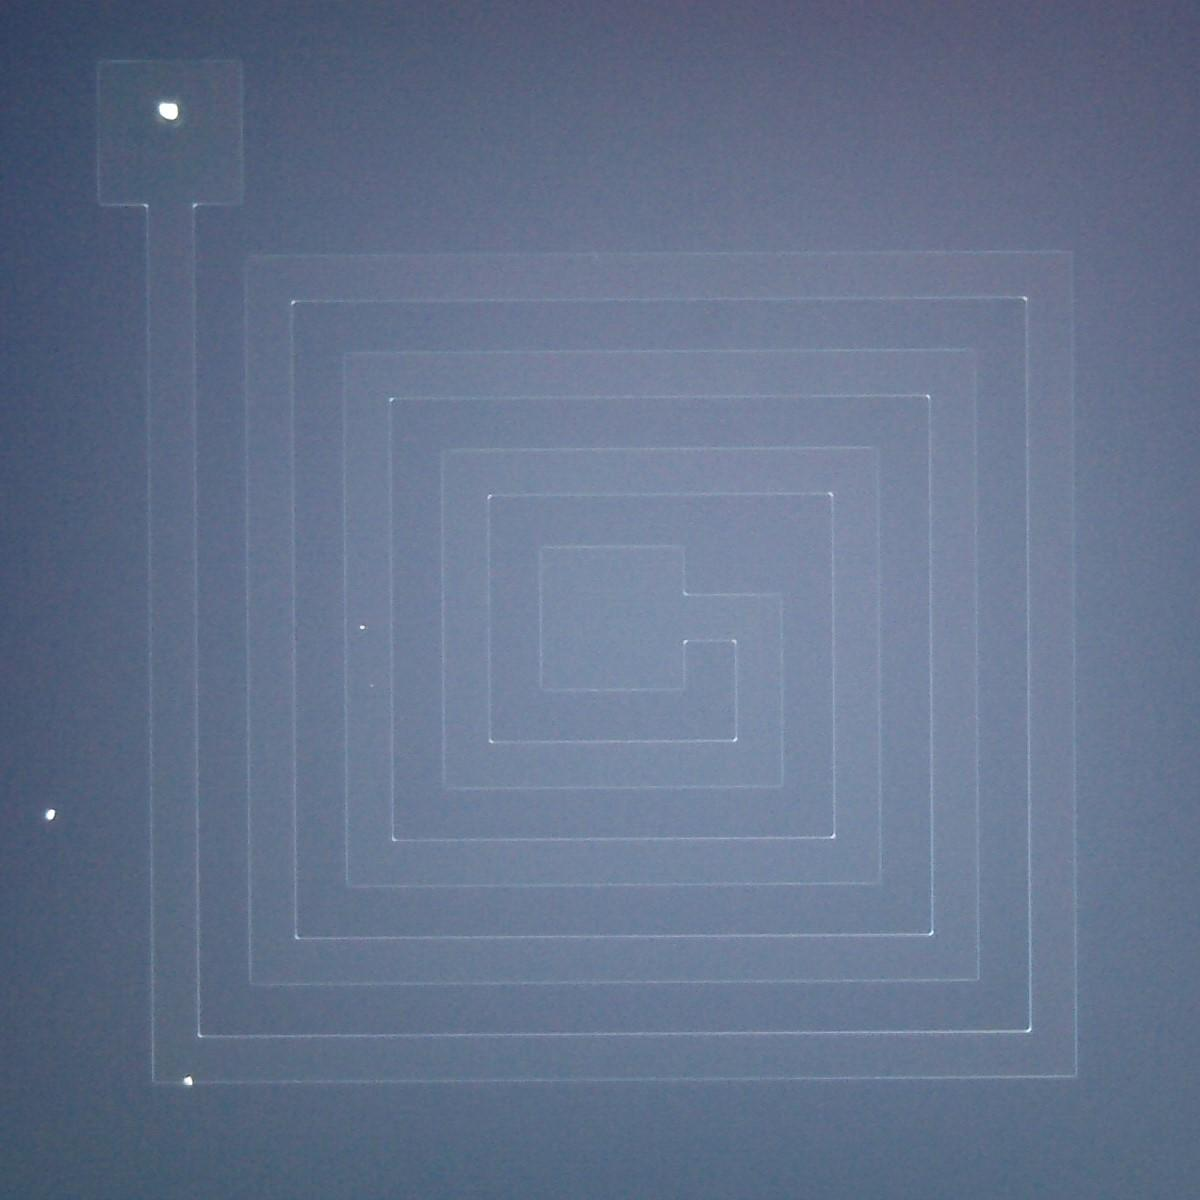B_point: (154, 98, 182, 126), (41, 805, 60, 825), (180, 1073, 197, 1090)
s_point: (366, 680, 378, 691), (357, 623, 368, 633)
